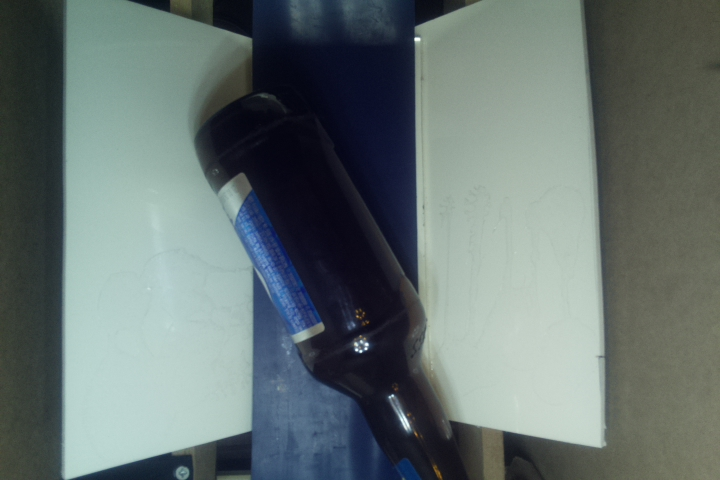makju: (195, 83, 482, 480)
